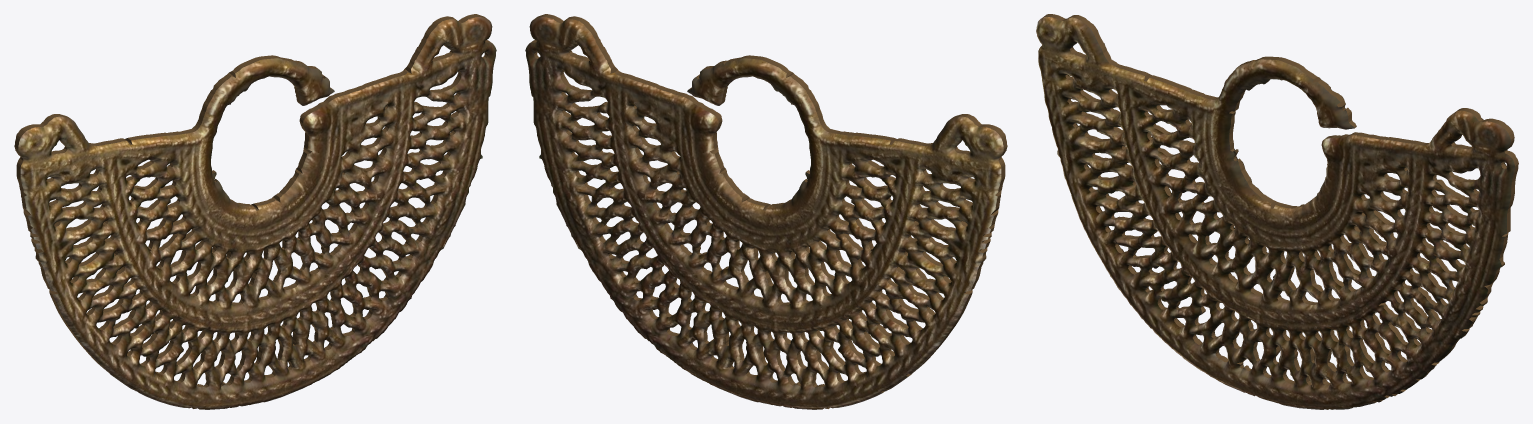
Rendered from adorno_para_la_oreja.glb.
The picture shows the model from 3 angles, left to right: view 1: azimuth 30°, elevation 25°; view 2: azimuth 150°, elevation 25°; view 3: azimuth 330°, elevation 25°; orthographic projection.
Parts seen in each view (by area): view 1: adorno_para_la_oreja; view 2: adorno_para_la_oreja; view 3: adorno_para_la_oreja.
Part boxes in pixels (bbox=[...]): adorno_para_la_oreja: bbox=[14, 14, 496, 409]; adorno_para_la_oreja: bbox=[525, 14, 1007, 409]; adorno_para_la_oreja: bbox=[1036, 14, 1518, 409].
Bounding box in the file's own units: 5.67 × 3.89 × 0.204.
Materials: 1 (1 with a texture image).
